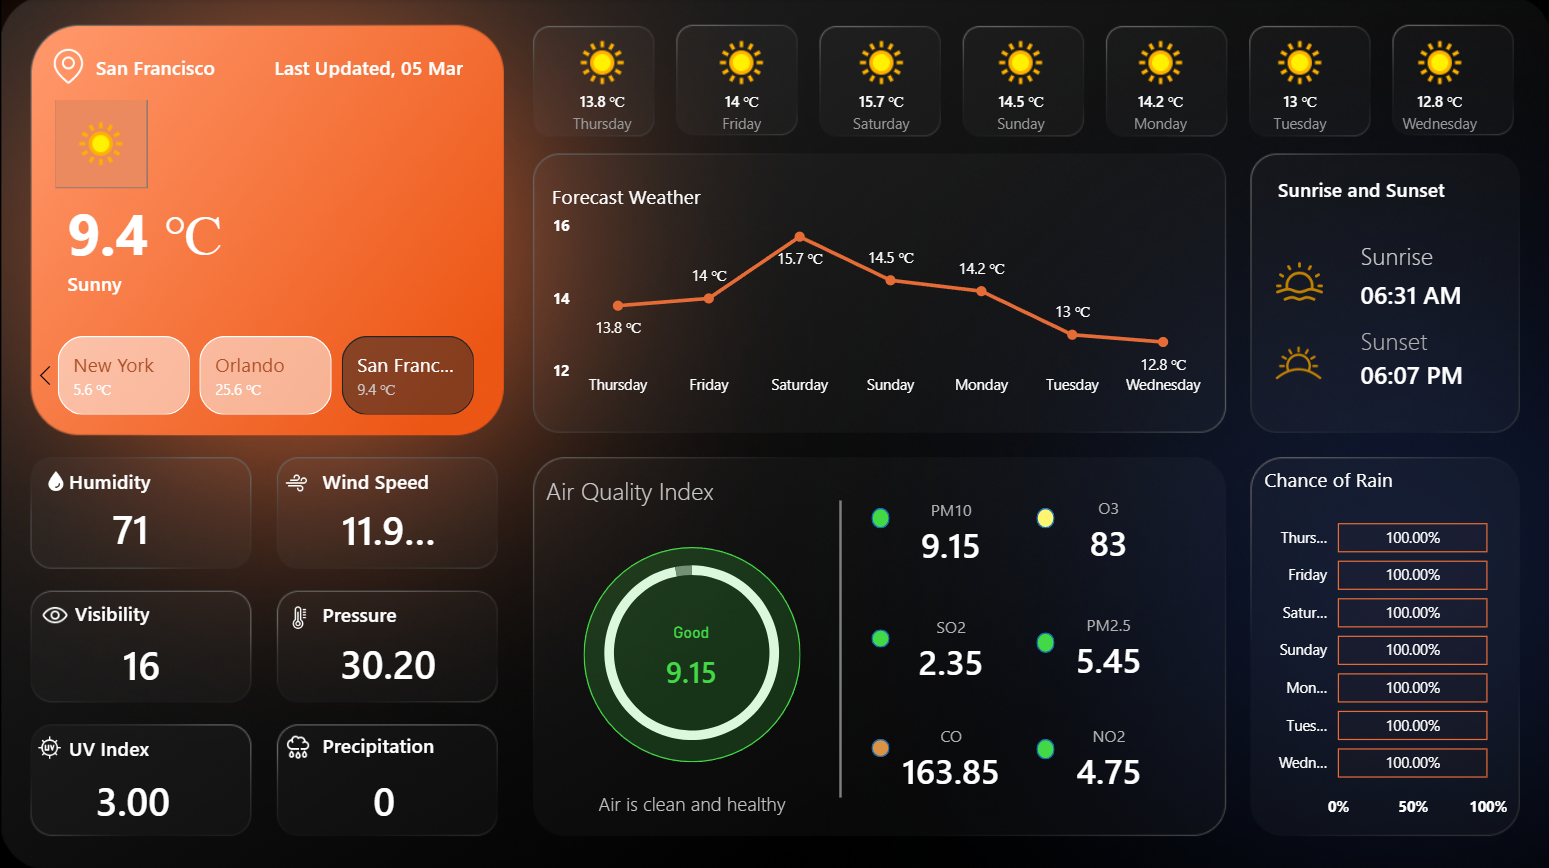

Layout of this report page (visuals, bound fields, positions):
{"tool":"powerbi","page":{"name":"Page 1","canvas":[1280,720],"ordinal":0},"visuals":[{"type":"donutChart","fields":{"Y":["_Measures.Left_value_PM10","Sum(Current.current.air_quality.pm10)"]},"box":[474.1,436.4,190,205.7],"z":0},{"type":"shape","box":[480.4,452.1,179,177.4],"z":1000},{"type":"advancedSlicerVisual","fields":{"Values":["Locations.location.name"]},"box":[22.7,272.6,393.7,75.7],"z":2000},{"type":"shape","box":[55.8,160.9,173.7,62.1],"z":3000},{"type":"shape","box":[55.8,223.1,210.3,20.7],"z":4000},{"type":"shape","box":[78.6,45.7,117.1,20],"z":5000},{"type":"image","box":[41.5,27.1,28.7,57.4],"z":6000},{"type":"shape","box":[225.7,45.7,174.3,20],"z":7000},{"type":"cardVisual","fields":{"Data":["Min(Current.current.condition.icon)"]},"box":[45.7,84.3,75.7,72.9],"z":8000},{"type":"image","box":[33.3,492.7,24,30.2],"z":9000},{"type":"shape","box":[61.5,492.7,64.6,27.1],"z":10000},{"type":"shape","box":[266,494,65,27],"z":11000},{"type":"shape","box":[266,602,95,27],"z":12000},{"type":"shape","box":[266,385,95,24],"z":13000},{"type":"shape","box":[57.3,384.4,72.9,27.1],"z":14000},{"type":"shape","box":[56.2,604.2,72.9,27.1],"z":15000},{"type":"image","box":[36.5,386.5,17.7,22.9],"z":16000},{"type":"image","box":[234.4,385.4,18.8,28.1],"z":17000},{"type":"image","box":[237.5,500,18.8,19.8],"z":18000},{"type":"image","box":[31,604,20,27],"z":19000},{"type":"image","box":[234,606,24,23],"z":20000},{"type":"advancedSlicerVisual","fields":{"Values":["Forcast_Day.Day_Name"]},"box":[437.1,27.1,810,102.9],"z":21000},{"type":"lineChart","title":"Forecast Weather","fields":{"Y":["Sum(Forcast_Day.forecast.forecastday.day.avgtemp_c)"],"Category":["Forcast_Day.Day_Name"]},"box":[450,151.7,550,185],"z":22000},{"type":"shape","box":[1052.4,140.8,165,31.8],"z":23000},{"type":"cardVisual","fields":{"Data":["Sum(Current.current.humidity)"]},"box":[75,414.8,105,41.6],"z":24000},{"type":"cardVisual","fields":{"Data":["_Measures.Wind_Speed"]},"box":[264.9,409.8,146.6,53.3],"z":25000},{"type":"cardVisual","fields":{"Data":["Sum(Current.current.vis_km)"]},"box":[83.7,522.8,77.4,50.5],"z":26000},{"type":"cardVisual","fields":{"Data":["Sum(Current.current.pressure_in)"]},"box":[263.2,523.1,118.3,50],"z":27000},{"type":"cardVisual","fields":{"Data":["Sum(Current.current.uv)"]},"box":[61.6,634.7,118.3,50],"z":28000},{"type":"cardVisual","fields":{"Data":["Sum(Current.current.precip_mm)"]},"box":[290.6,635,69.5,49],"z":29000},{"type":"shape","box":[1121.2,223.2,96.6,41.6],"z":30000},{"type":"shape","box":[1121.2,291.5,96.6,36.7],"z":31000},{"type":"shape","box":[1121.2,191.6,91.6,41.6],"z":32000},{"type":"shape","box":[1121.2,264.9,91.6,35],"z":33000},{"type":"image","box":[1037.3,275,65.6,50],"z":34000},{"type":"image","box":[1048.3,214,45.3,39.1],"z":35000},{"type":"hundredPercentStackedBarChart","title":"Chance of Rain","fields":{"Y":["Current.Left_value_Rain","Sum(Forcast_Day.forecast.forecastday.day.daily_chance_of_rain)"],"Category":["Forcast_Day.Day_Name"]},"box":[1037.3,385.9,209.3,298.4],"z":36000},{"type":"shape","box":[449.9,384.3,165.6,42.2],"z":37000},{"type":"cardVisual","fields":{"Data":["Sum(Current.current.air_quality.pm10)"]},"box":[730,406.6,106.8,67.5],"z":38000},{"type":"cardVisual","fields":{"Data":["Sum(Current.current.air_quality.o3)"]},"box":[868.7,405.9,89.3,66.6],"z":39000},{"type":"cardVisual","fields":{"Data":["Sum(Current.current.air_quality.so2)"]},"box":[738.8,503.3,89.3,66.6],"z":40000},{"type":"cardVisual","fields":{"Data":["Sum(Current.current.air_quality.co)"]},"box":[717.7,592.6,131.5,66.6],"z":41000},{"type":"cardVisual","fields":{"Data":["Sum(Current.current.air_quality.pm2_5)"]},"box":[868.7,501.7,89.3,66.6],"z":42000},{"type":"cardVisual","fields":{"Data":["Sum(Current.current.air_quality.no2)"]},"box":[860.6,592.6,107.2,66.6],"z":43000},{"type":"shape","box":[718,419.6,14.9,16.8],"z":44000},{"type":"shape","box":[718,609.9,14.9,14.9],"z":45000},{"type":"shape","box":[718,520.3,14.9,14.9],"z":46000},{"type":"shape","box":[854.2,419.6,14.9,16.8],"z":47000},{"type":"shape","box":[854.2,609.9,14.9,16.8],"z":48000},{"type":"shape","box":[854.2,522.2,14.9,16.8],"z":49000},{"type":"shape","box":[667.2,414.5,50.2,244.9],"z":50000},{"type":"cardVisual","fields":{"Data":["Sum(Current.current.air_quality.pm10)"]},"box":[524.4,514.9,91.1,65.9],"z":51000},{"type":"shape","box":[465.7,642.9,208.6,41.4],"z":52000}]}

Visuals, with their boxes in screenshot pixels (x1, y1, x2, y2), scaled from the page's 1280x720 canvas onto the 1549x868 screenshot:
donutChart - _Measures.Left_value_PM10 x Sum(Current.current.air_quality.pm10): 574, 526, 804, 774
shape: 581, 545, 798, 759
advancedSlicerVisual - Locations.location.name: 27, 329, 504, 420
shape: 68, 194, 278, 269
shape: 68, 269, 322, 294
shape: 95, 55, 237, 79
image: 50, 33, 85, 102
shape: 273, 55, 484, 79
cardVisual - Min(Current.current.condition.icon): 55, 102, 147, 190
image: 40, 594, 69, 630
shape: 74, 594, 153, 627
shape: 322, 596, 401, 628
shape: 322, 726, 437, 758
shape: 322, 464, 437, 493
shape: 69, 463, 158, 496
shape: 68, 728, 156, 761
image: 44, 466, 66, 494
image: 284, 465, 306, 498
image: 287, 603, 310, 627
image: 38, 728, 62, 761
image: 283, 731, 312, 758
advancedSlicerVisual - Forcast_Day.Day_Name: 529, 33, 1509, 157
"Forecast Weather" lineChart: 545, 183, 1210, 406
shape: 1274, 170, 1473, 208
cardVisual - Sum(Current.current.humidity): 91, 500, 218, 550
cardVisual - _Measures.Wind_Speed: 321, 494, 498, 558
cardVisual - Sum(Current.current.vis_km): 101, 630, 195, 691
cardVisual - Sum(Current.current.pressure_in): 319, 631, 462, 691
cardVisual - Sum(Current.current.uv): 75, 765, 218, 825
cardVisual - Sum(Current.current.precip_mm): 352, 766, 436, 825
shape: 1357, 269, 1474, 319
shape: 1357, 351, 1474, 396
shape: 1357, 231, 1468, 281
shape: 1357, 319, 1468, 362
image: 1255, 332, 1335, 392
image: 1269, 258, 1323, 305
"Chance of Rain" hundredPercentStackedBarChart: 1255, 465, 1509, 825
shape: 544, 463, 745, 514
cardVisual - Sum(Current.current.air_quality.pm10): 883, 490, 1013, 572
cardVisual - Sum(Current.current.air_quality.o3): 1051, 489, 1159, 570
cardVisual - Sum(Current.current.air_quality.so2): 894, 607, 1002, 687
cardVisual - Sum(Current.current.air_quality.co): 869, 714, 1028, 795
cardVisual - Sum(Current.current.air_quality.pm2_5): 1051, 605, 1159, 685
cardVisual - Sum(Current.current.air_quality.no2): 1041, 714, 1171, 795
shape: 869, 506, 887, 526
shape: 869, 735, 887, 753
shape: 869, 627, 887, 645
shape: 1034, 506, 1052, 526
shape: 1034, 735, 1052, 756
shape: 1034, 630, 1052, 650
shape: 807, 500, 868, 795
cardVisual - Sum(Current.current.air_quality.pm10): 635, 621, 745, 700
shape: 564, 775, 816, 825
